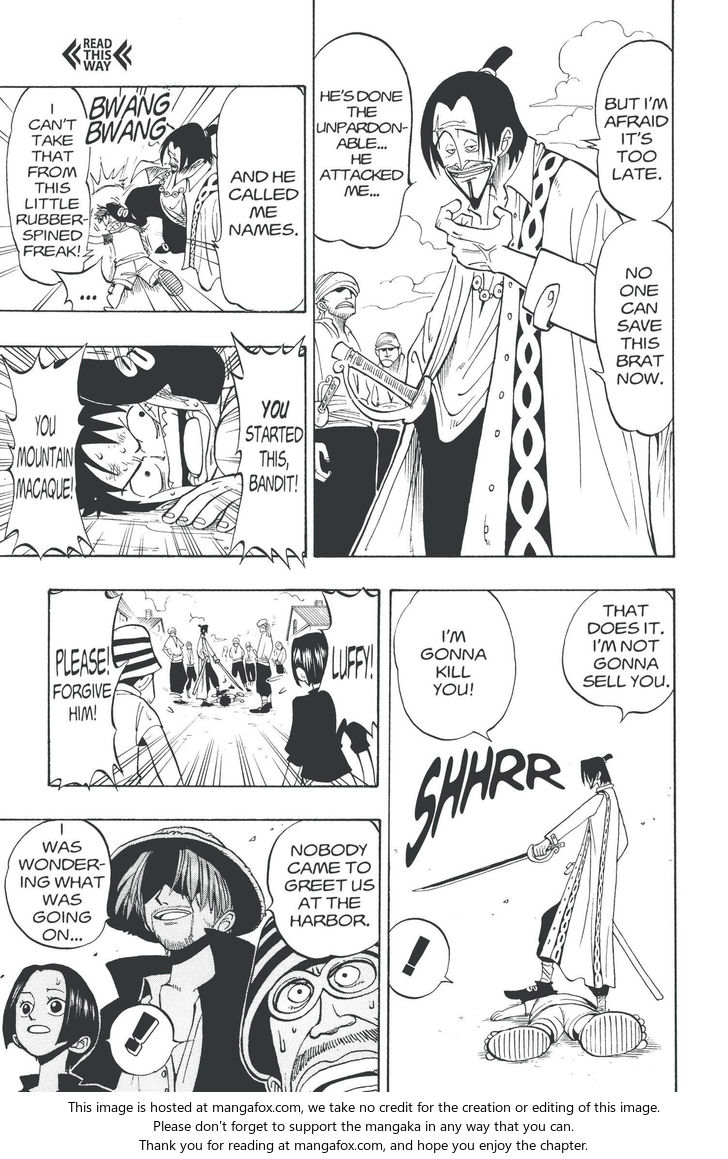bubble: (313, 33, 415, 249), (213, 85, 306, 312), (1, 343, 95, 561), (394, 589, 517, 742), (227, 332, 306, 569), (590, 219, 674, 435), (6, 87, 94, 285), (580, 39, 674, 221), (48, 590, 129, 792), (266, 818, 380, 959), (563, 589, 675, 723), (4, 819, 113, 949), (318, 587, 379, 737), (106, 1004, 185, 1075), (388, 917, 454, 998), (53, 257, 113, 312)
